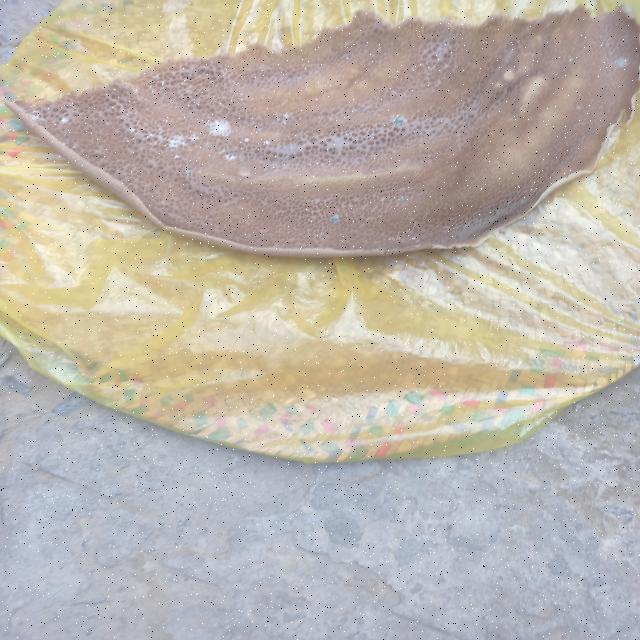injera_mold: (159, 131, 202, 148), (204, 116, 232, 137), (217, 149, 242, 163), (26, 109, 45, 123), (389, 114, 408, 128), (274, 111, 291, 126), (613, 55, 627, 68), (329, 212, 342, 224), (565, 55, 577, 64), (242, 136, 253, 144), (60, 116, 70, 124)
